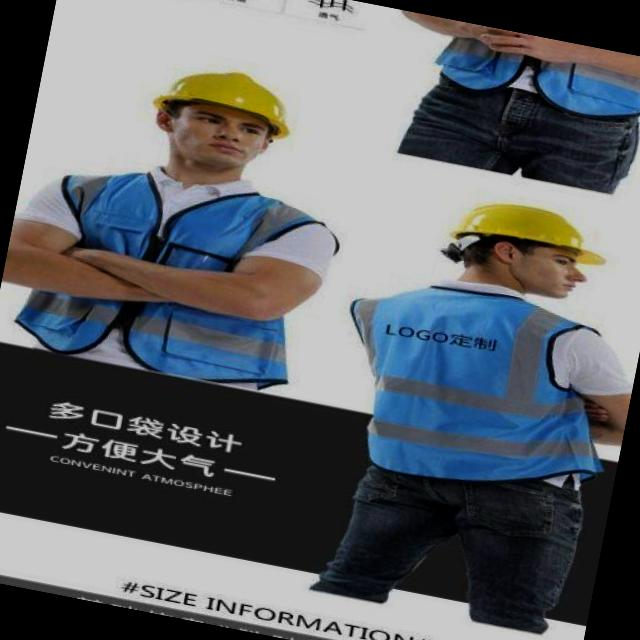vest: (25, 159, 308, 406), (353, 283, 603, 492)
